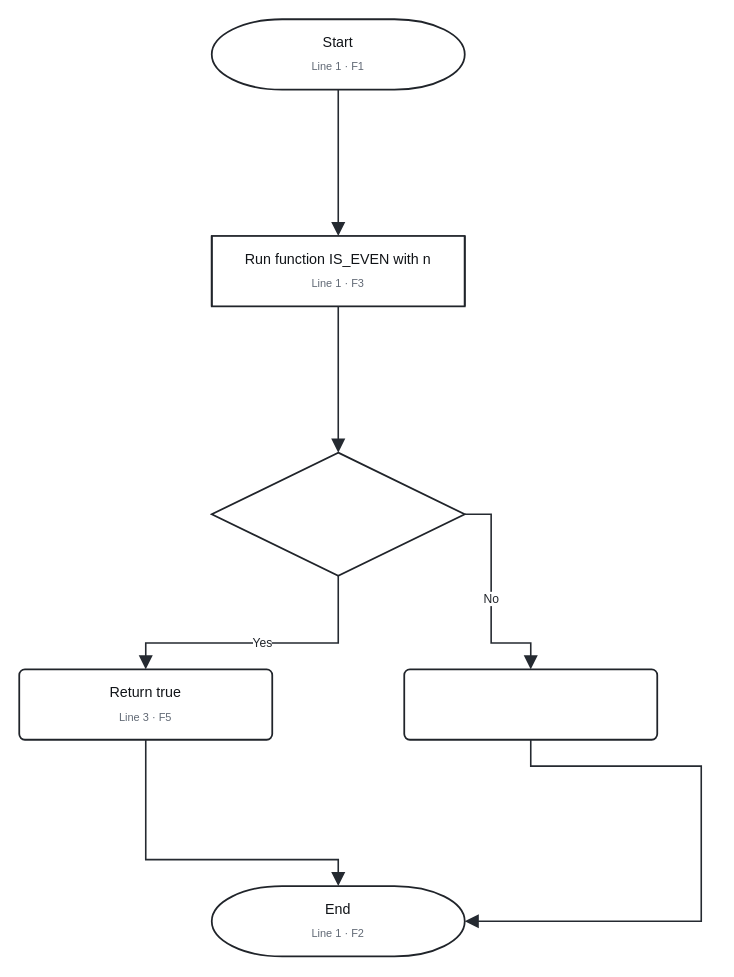
The diagram is 734 pixels wide and 977 high, and some of its shapes have lost their labels. The box of each missing label's shape, as (x1, y1, x2, y2) in pixels:
N modulo 2 is equal to 0? Line 2 · F4: (210, 451, 465, 576)
Return false Line 5 · F6: (403, 668, 658, 740)
